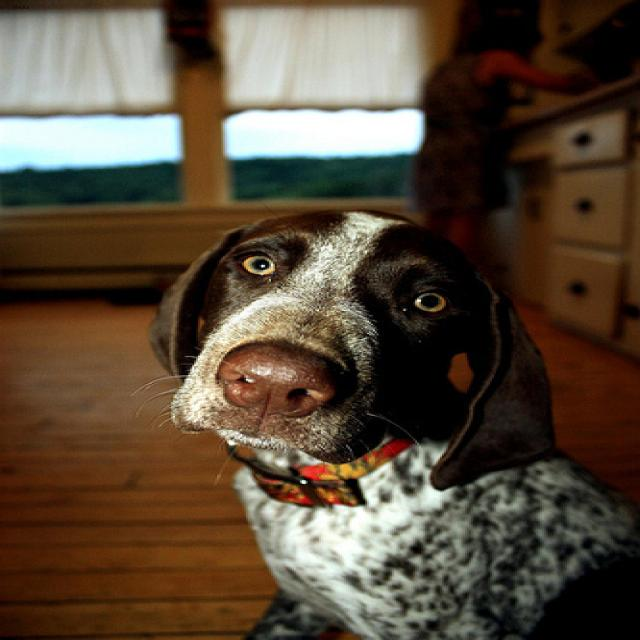dog-german_shorthaired: (117, 197, 636, 637)
